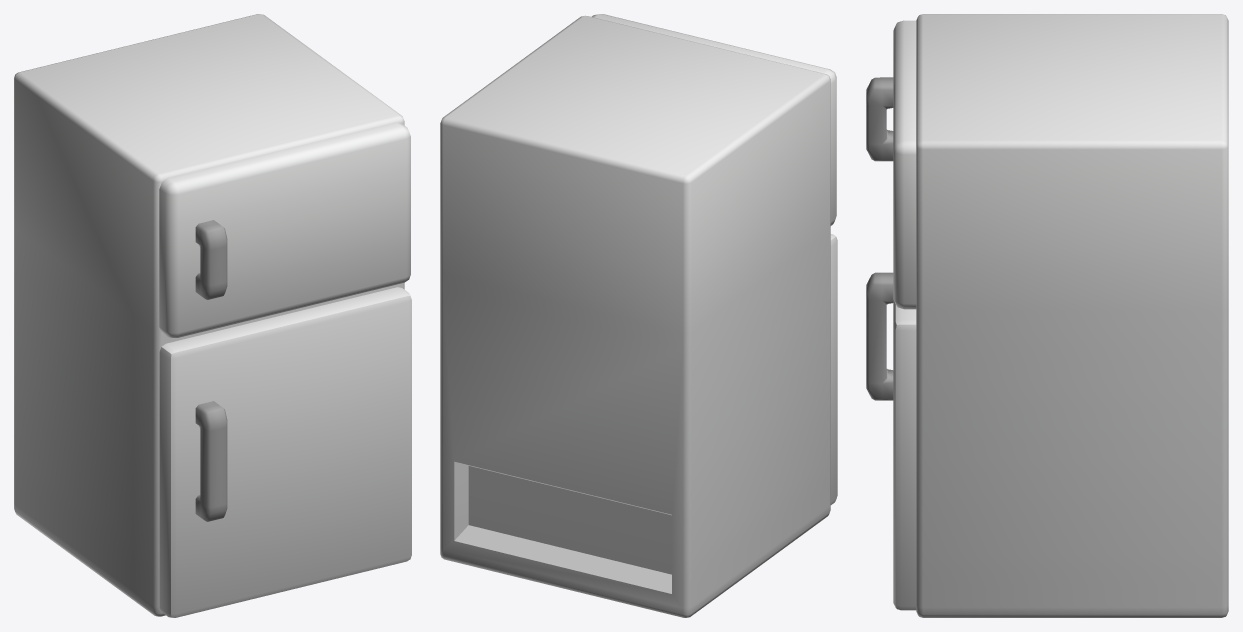
File: Refrigerator_01_C02.fbx
3 views of the same model, side by side, from view 1: azimuth 30°, elevation 25°; view 2: azimuth 150°, elevation 25°; view 3: azimuth 270°, elevation 25° (orthographic). The views are drawn at different scales.
Parts seen in each view (by area): view 1: Refrigerator_01_C02, Refrigerator_01_C02_Door_L, Refrigerator_01_C02_Door_U; view 2: Refrigerator_01_C02, Refrigerator_01_C02_Door_U, Refrigerator_01_C02_Door_L; view 3: Refrigerator_01_C02, Refrigerator_01_C02_Door_L, Refrigerator_01_C02_Door_U.
Part boxes in pixels (left/top/right/bottom): Refrigerator_01_C02: left=14, top=14, right=404, bottom=616; Refrigerator_01_C02_Door_L: left=159, top=287, right=411, bottom=617; Refrigerator_01_C02_Door_U: left=159, top=122, right=410, bottom=338; Refrigerator_01_C02: left=440, top=15, right=830, bottom=617; Refrigerator_01_C02_Door_U: left=591, top=14, right=836, bottom=225; Refrigerator_01_C02_Door_L: left=830, top=234, right=837, bottom=504; Refrigerator_01_C02: left=916, top=14, right=1228, bottom=617; Refrigerator_01_C02_Door_L: left=866, top=272, right=916, bottom=610; Refrigerator_01_C02_Door_U: left=866, top=20, right=916, bottom=309.
Size of the model in its own units: 100 by 169 by 116.
